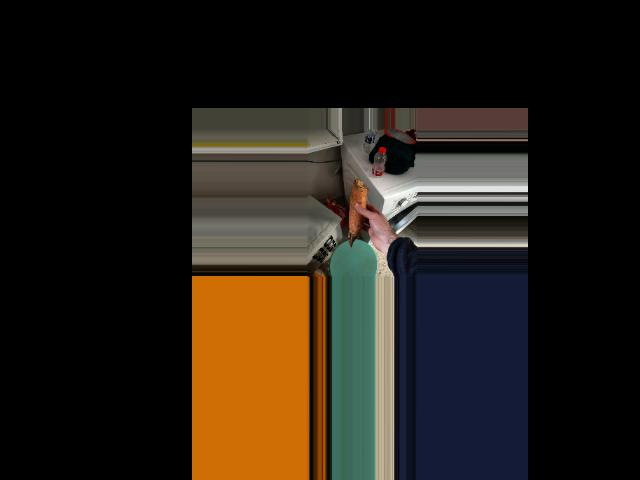sweet_potato: (349, 180, 368, 243)
